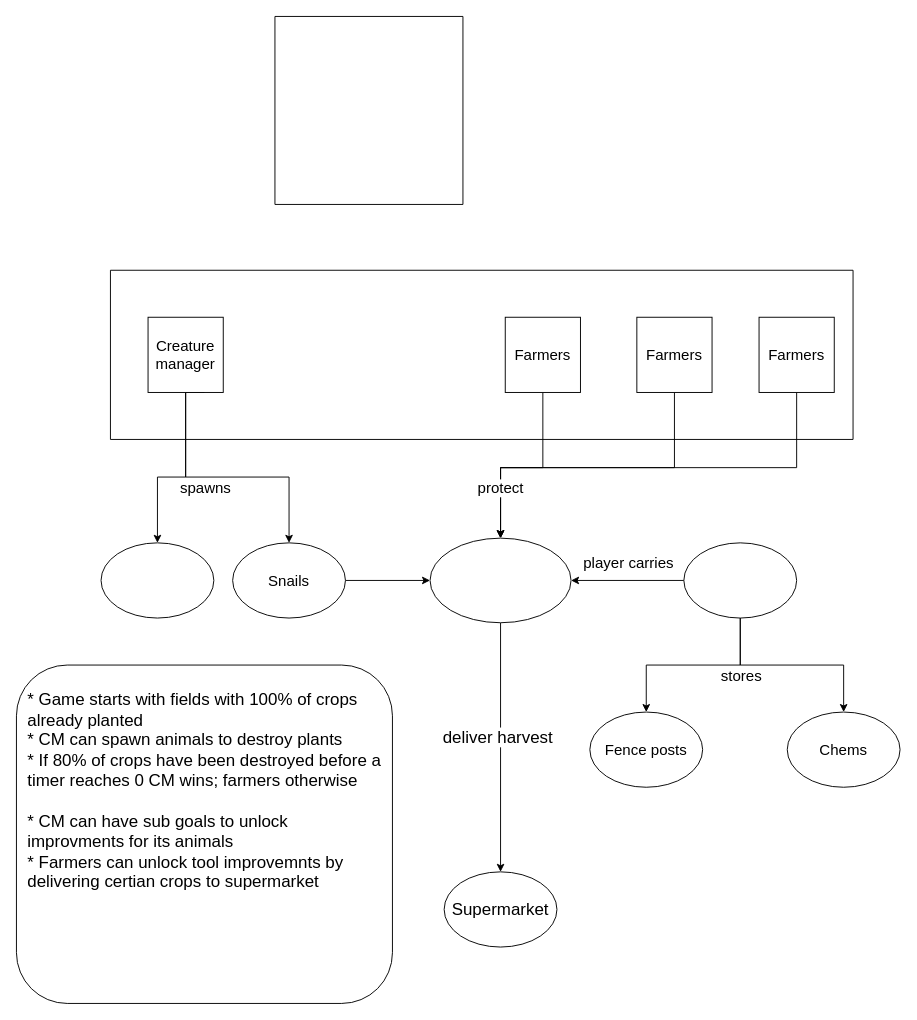
Image size: 917x1020. Some labels were removed from this diagram. Here are the shapes that lost their labels. From the top down, the centre of each, then its label:
At point (368, 110): "Centeral server".
At point (481, 354): "Game Client & Server".
At point (157, 580): "Deer".
At point (500, 580): "Fields with crops Need protection".
At point (740, 580): "Base Building Tools in it".
